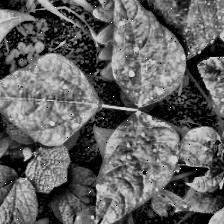Bean Rust: (90, 110, 182, 224), (0, 54, 102, 140), (106, 0, 187, 107), (0, 2, 34, 99)
